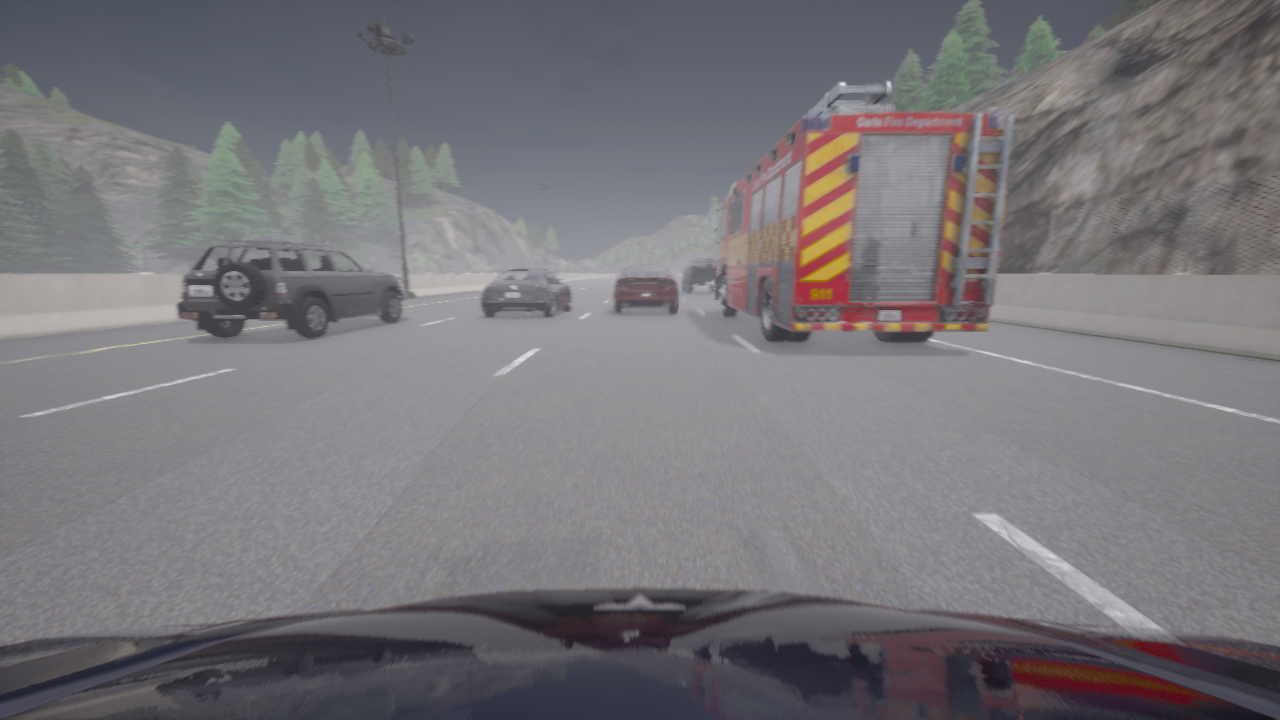cyclist: (0, 588, 1279, 719), (709, 81, 1014, 342), (177, 239, 406, 337), (480, 268, 570, 317), (614, 263, 677, 313), (681, 259, 717, 293), (548, 269, 560, 277)
